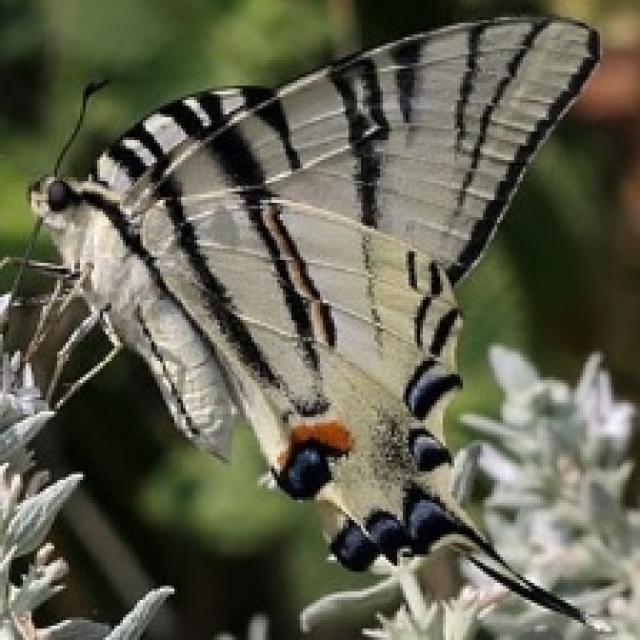butterfly: (23, 9, 611, 634)
